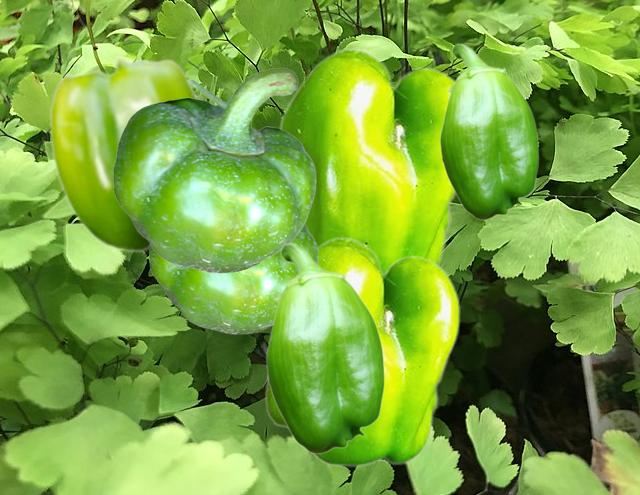bell_pepper: (264, 236, 459, 466), (113, 67, 315, 272), (276, 47, 457, 270), (49, 56, 200, 252), (265, 243, 384, 453), (149, 225, 317, 333), (439, 43, 538, 219)
